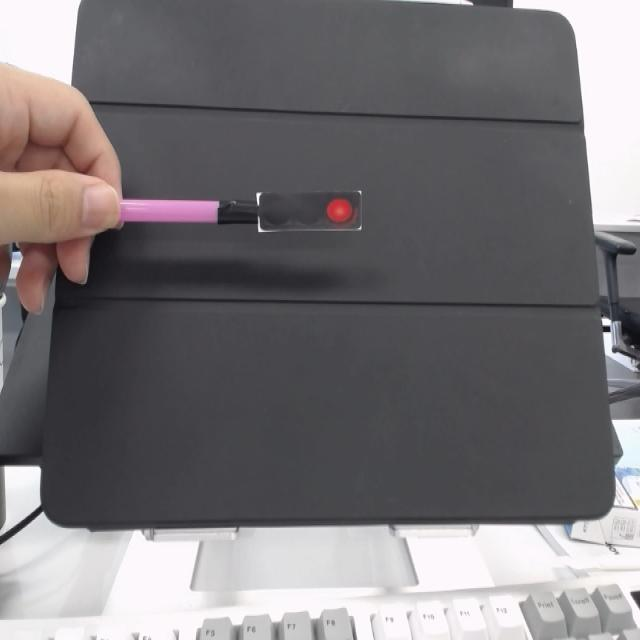traffic light: (254, 187, 368, 240)
